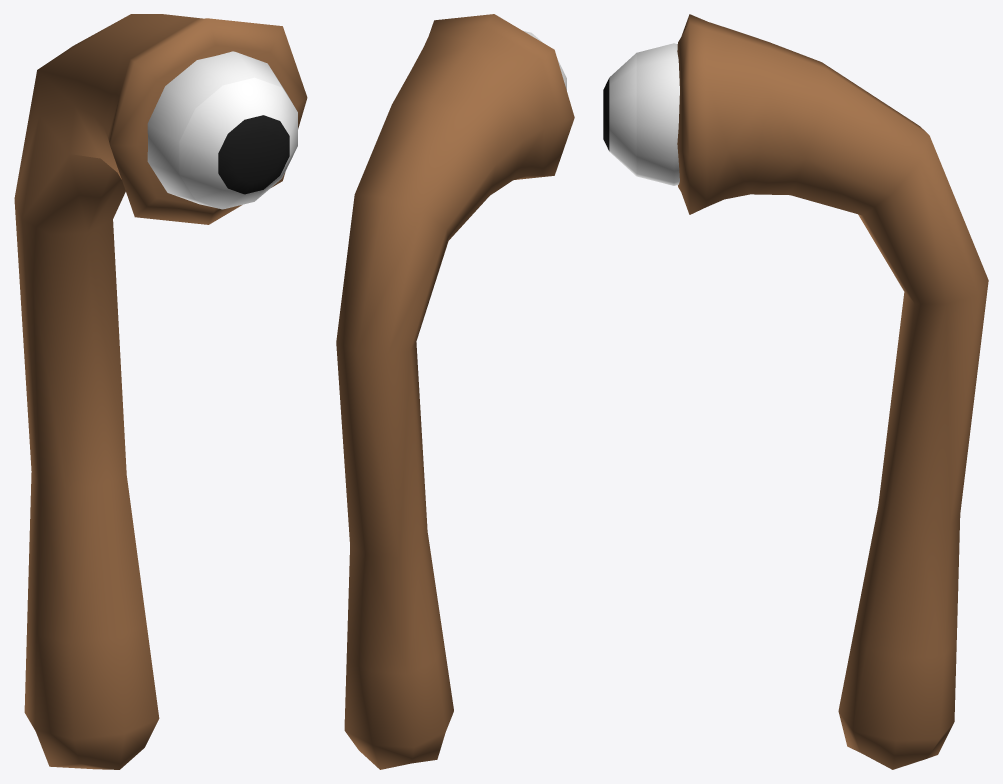
File: Stalkward.fbx
3 renders of one model, left to right at view 1: azimuth 30°, elevation 25°; view 2: azimuth 150°, elevation 25°; view 3: azimuth 270°, elevation 25°, orthographic. The views are drawn at different scales.
Parts seen in each view (by area): view 1: Stalkward - Haskipend; view 2: Stalkward - Haskipend; view 3: Stalkward - Haskipend.
Boxes of the visible parts, x1,y1,x2,y2 form: Stalkward - Haskipend: (14,14,307,769); Stalkward - Haskipend: (336,14,574,769); Stalkward - Haskipend: (603,14,988,769).
Size of the model in its own units: 15.93 by 64.35 by 30.41.
